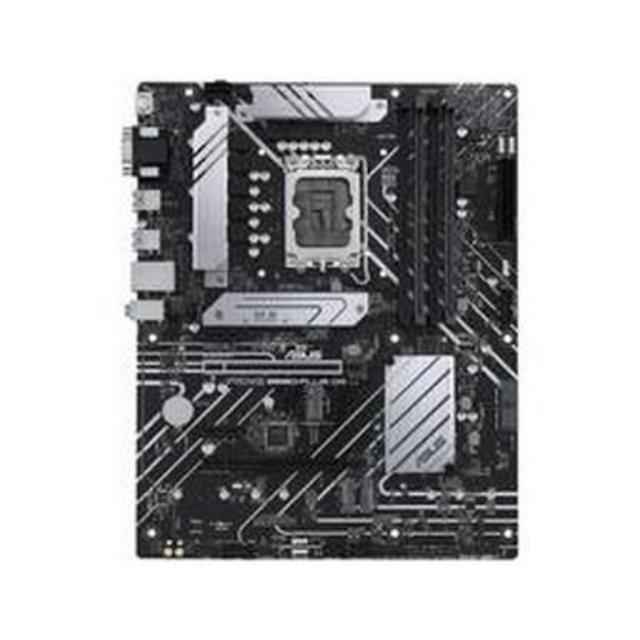Mainboard: (122, 72, 520, 570)
